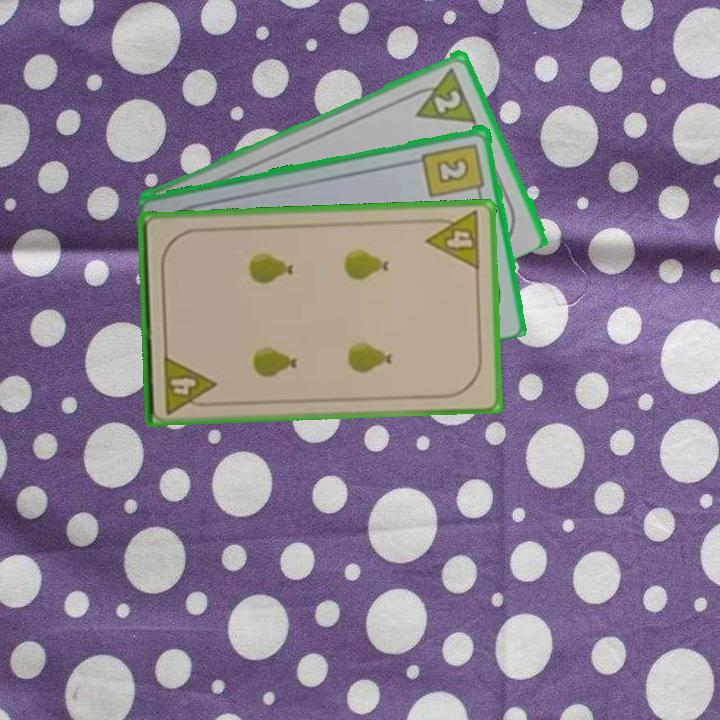2b: (419, 139, 488, 200)
2p: (404, 62, 479, 126)
4p: (422, 208, 483, 273), (160, 351, 218, 416)
